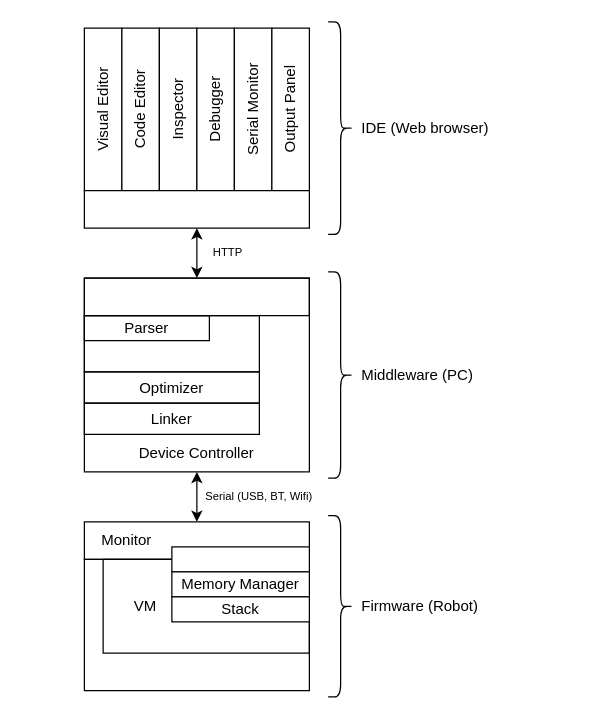
Image size: 605x719. Some labels were removed from this diagram. The centre of each missing label's shape, as x and y in pixels:
Compiler: pixel 171 343
GPIO: pixel 196 624
Program Loader: pixel 240 559
Uzi Client: pixel 196 208
Web server (REST API): pixel 196 296
